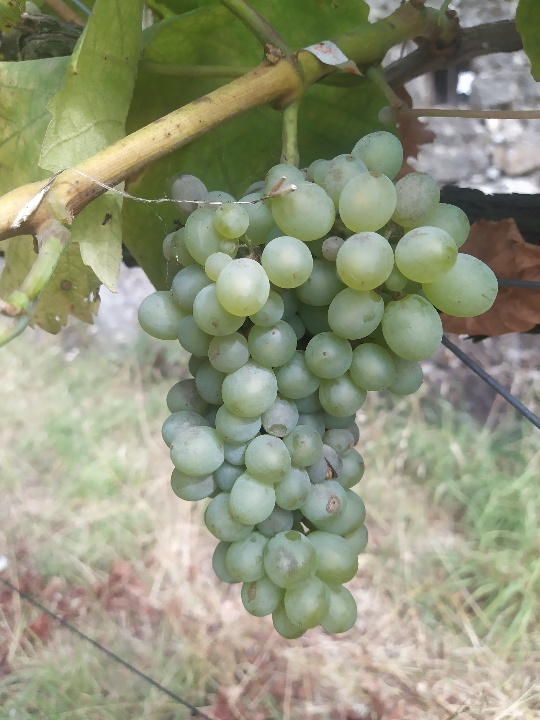grape: (141, 128, 499, 640)
